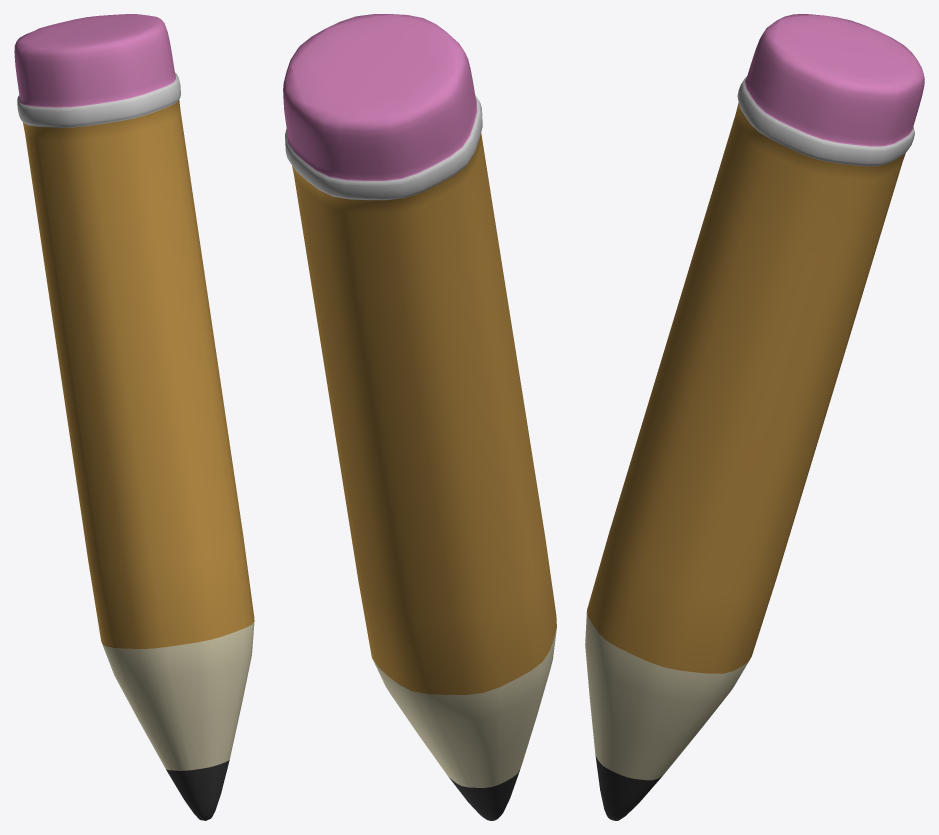
The model's file is Model-Text6-PencilAnim.gltf.
3 renders of one model, left to right at view 1: azimuth 30°, elevation 25°; view 2: azimuth 150°, elevation 25°; view 3: azimuth 270°, elevation 25°, orthographic. The views are drawn at different scales.
Visible parts, largest first — view 1: Pencil; view 2: Pencil; view 3: Pencil.
Boxes of the visible parts, x1=… form: Pencil: x1=14, y1=14, x2=254, y2=820; Pencil: x1=283, y1=14, x2=556, y2=820; Pencil: x1=585, y1=14, x2=924, y2=820.
Bounding box in the file's own units: 2.55 × 12.01 × 4.72.
